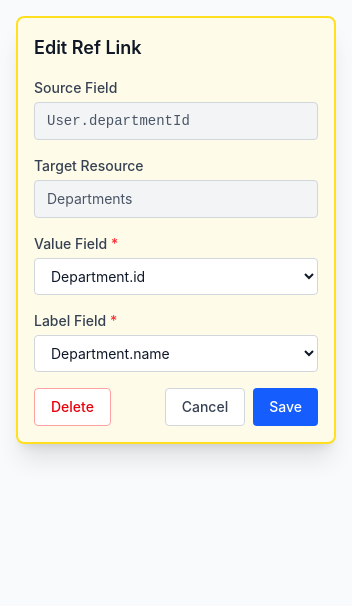
Test: RefLinkEditPanel › should show delete confirmation dialog when Delete button is clicked
This screenshot has width=352, height=606.
Click the button with test id "delete-button": click(72, 407) [34,388,111,426]
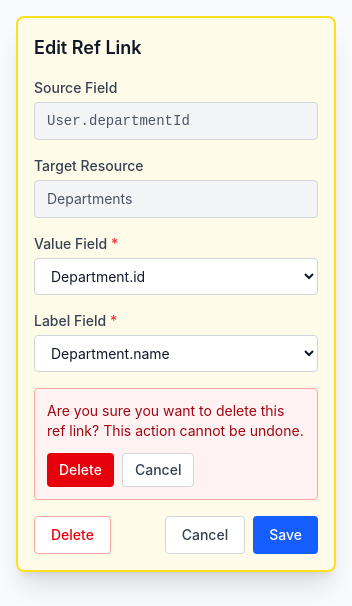
Check: the element with test id "delete-confirmation" is shown, box [34,388,318,500]
Check: the text "Are you sure you want to delete this ref link" is shown, box [47,402,304,439]
